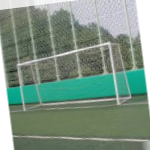goals: (16, 39, 132, 113)
